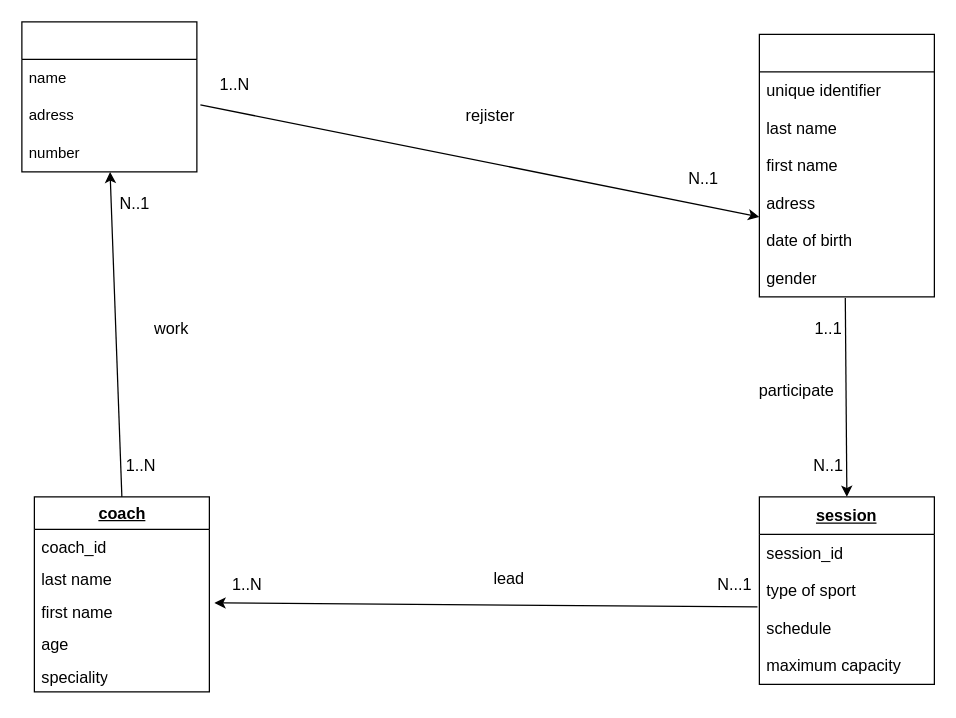
Some shapes in this 956 by 718 pixel diagram are drawn without their labels. The shapes that lost their labels are listed below. From the top down, each one's box as (x1, y1, x2, y2) in pixels, then its label:
(21, 21, 197, 172): gymnasium
(758, 33, 934, 297): member
